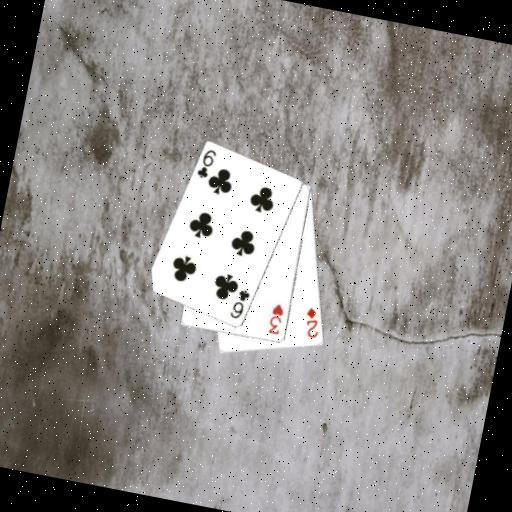2D: (299, 304, 325, 341)
3H: (265, 300, 287, 337)
6C: (227, 285, 253, 322), (193, 145, 219, 182)
